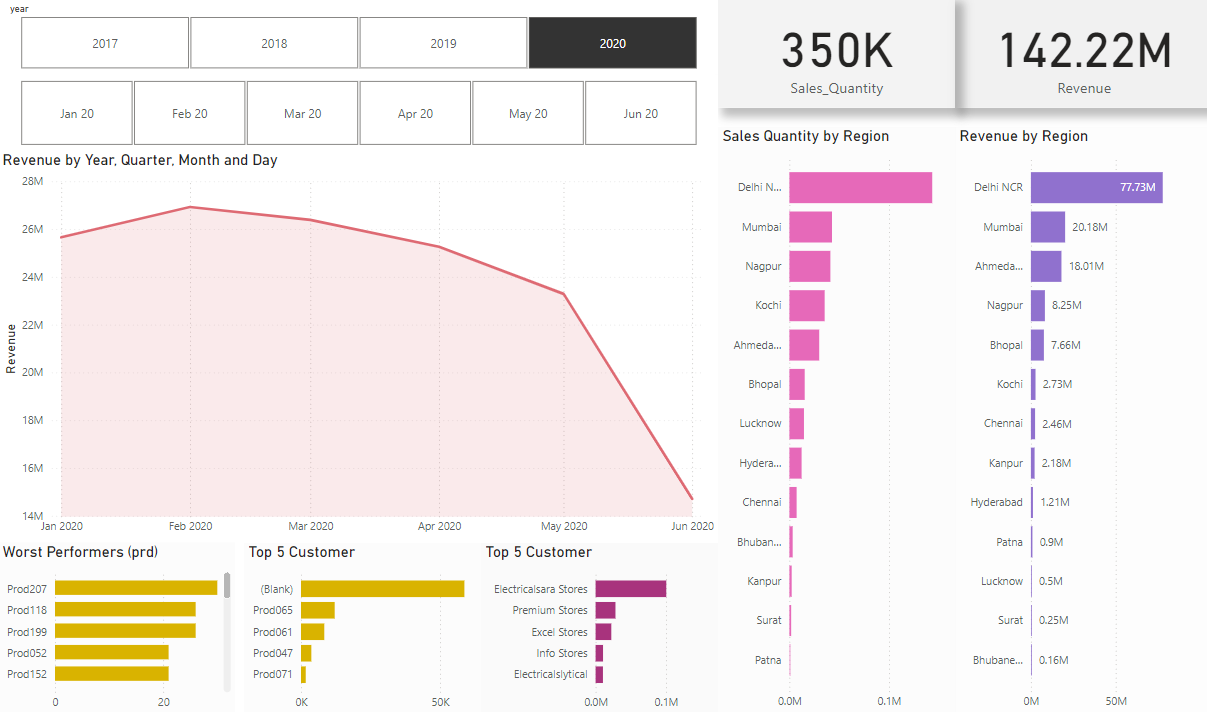

What the dashboard file says about the page in this screenshot:
{"tool":"powerbi","page":{"name":"Page 1","canvas":[1350,800],"ordinal":0},"visuals":[{"type":"card","fields":{"Values":["BaseMeasures.Revenue"]},"box":[1063.3,0,286.7,121.7],"z":0},{"type":"card","fields":{"Values":["BaseMeasures.Sales_Quantity"]},"box":[800,0,263.3,121.7],"z":1000},{"type":"clusteredBarChart","title":"Revenue by Region","fields":{"Y":["BaseMeasures.Revenue"],"Category":["sales markets.markets_name"]},"box":[1064,144,286,656],"z":2000},{"type":"clusteredBarChart","title":"Sales Quantity by Region","fields":{"Y":["BaseMeasures.Sales_Quantity"],"Category":["sales markets.markets_name"]},"box":[800,144,264,656],"z":3000},{"type":"slicer","fields":{"Values":["sales date.year"]},"box":[0,0,800,85],"z":4000},{"type":"slicer","fields":{"Values":["sales date.cy_date"]},"box":[0,85,800,85],"z":5000},{"type":"clusteredBarChart","title":"Top 5 Customer","fields":{"Y":["BaseMeasures.Sales_Quantity"],"Category":["sales customers.custmer_name"]},"box":[536.7,605,263.3,195],"z":6000},{"type":"clusteredBarChart","title":"Top 5 Customer","fields":{"Y":["BaseMeasures.Sales_Quantity"],"Category":["sales products.product_code"]},"box":[273.3,605,263.3,195],"z":7000},{"type":"lineChart","fields":{"Category":["sales date.cy_date.Variation.Date Hierarchy.Year","sales date.cy_date.Variation.Date Hierarchy.Quarter","sales date.cy_date.Variation.Date Hierarchy.Month","sales date.cy_date.Variation.Date Hierarchy.Day"],"Y":["BaseMeasures.Revenue"]},"box":[0,170,800,435],"z":8000},{"type":"clusteredBarChart","title":"Worst Performers (prd)","fields":{"Y":["BaseMeasures.Sales_Quantity"],"Category":["sales products.product_code"]},"box":[0,605,263.3,195],"z":9000}]}

Visuals, with their boxes in screenshot pixels (x1, y1, x2, y2), scaled from the page's 1350x800 canvas onto the 1207x712 screenshot:
card - BaseMeasures.Revenue: {"left": 951, "top": 0, "right": 1206, "bottom": 108}
card - BaseMeasures.Sales_Quantity: {"left": 715, "top": 0, "right": 951, "bottom": 108}
"Revenue by Region" clusteredBarChart: {"left": 951, "top": 128, "right": 1206, "bottom": 711}
"Sales Quantity by Region" clusteredBarChart: {"left": 715, "top": 128, "right": 951, "bottom": 711}
slicer - sales date.year: {"left": 0, "top": 0, "right": 715, "bottom": 76}
slicer - sales date.cy_date: {"left": 0, "top": 76, "right": 715, "bottom": 151}
"Top 5 Customer" clusteredBarChart: {"left": 480, "top": 538, "right": 715, "bottom": 711}
"Top 5 Customer" clusteredBarChart: {"left": 244, "top": 538, "right": 480, "bottom": 711}
lineChart - sales date.cy_date.Variation.Date Hierarchy.Year x sales date.cy_date.Variation.Date Hierarchy.Quarter: {"left": 0, "top": 151, "right": 715, "bottom": 538}
"Worst Performers (prd)" clusteredBarChart: {"left": 0, "top": 538, "right": 235, "bottom": 711}
